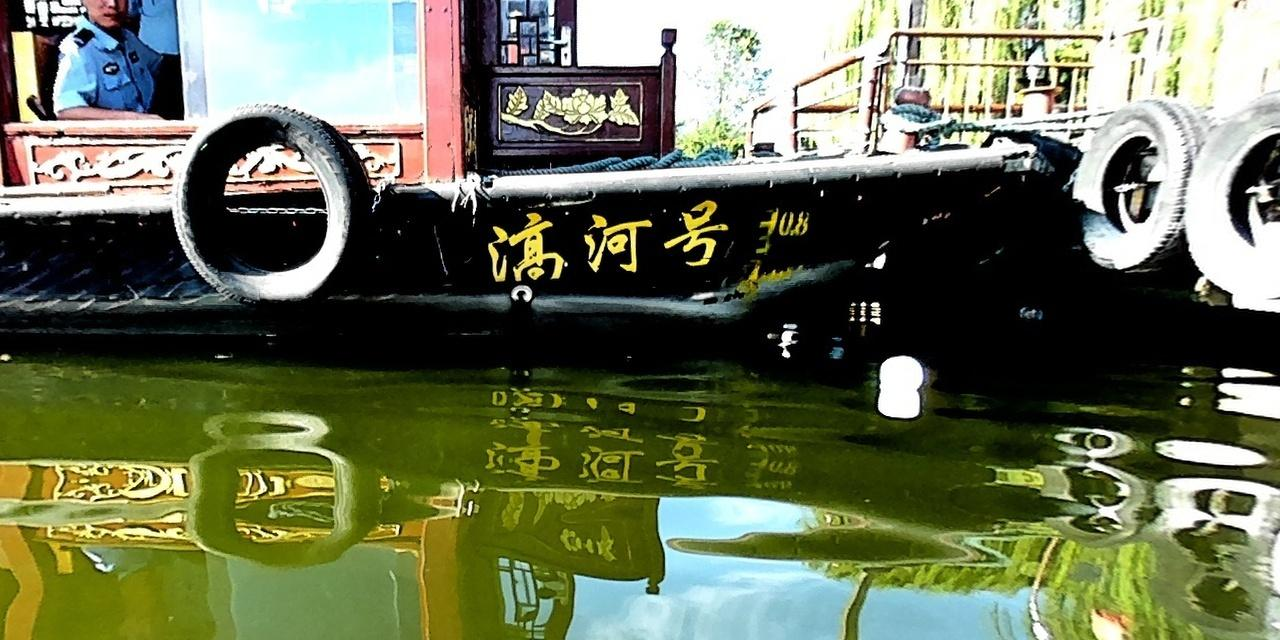bottle: (875, 353, 932, 392)
